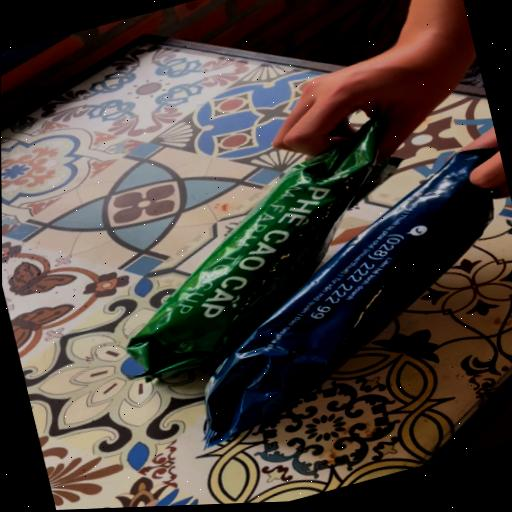cafe_hat: (205, 148, 495, 448)
cafe_xay: (127, 121, 400, 380)
